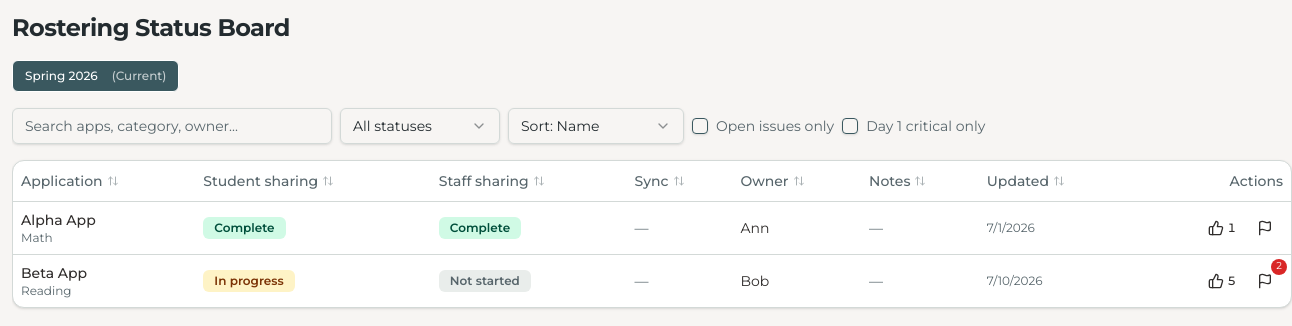
Scenario: Rostering stored board filters › stores the open-issues toggle when clicked
What coordinates should you click on to do the following:
click the text "Open issues only"
I would click on:
 (763, 126)
Its box is [692,116,834,136].
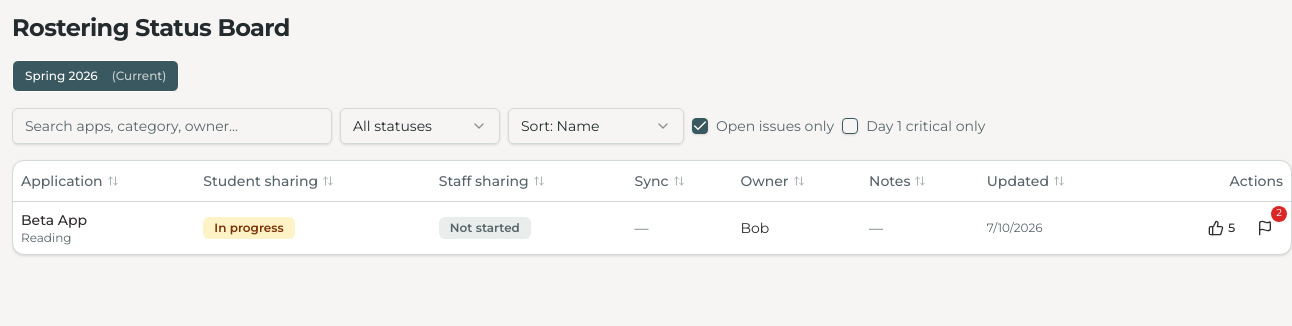
Now the text "Alpha App" is gone
What coordinates should you click on to do the following:
click the text "Open issues only"
I would click on:
 (763, 126)
Its box is [692,116,834,136].
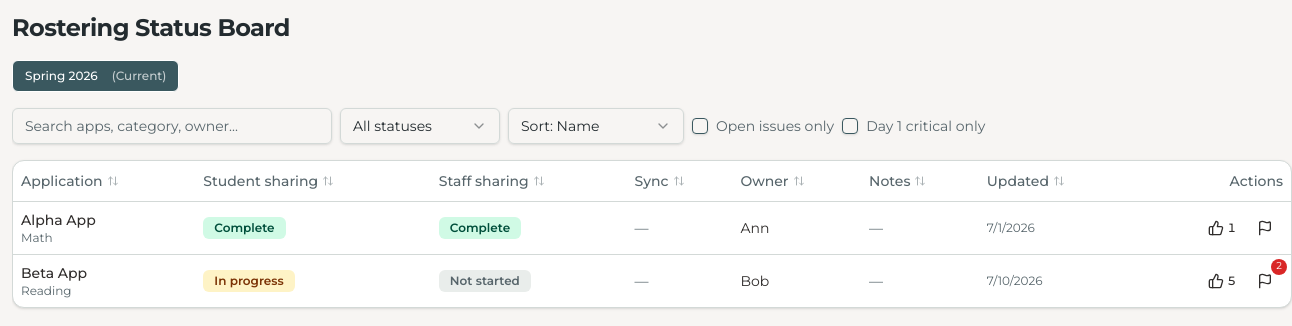
Now the text "Alpha App" is shown, box [21,210,96,230]
